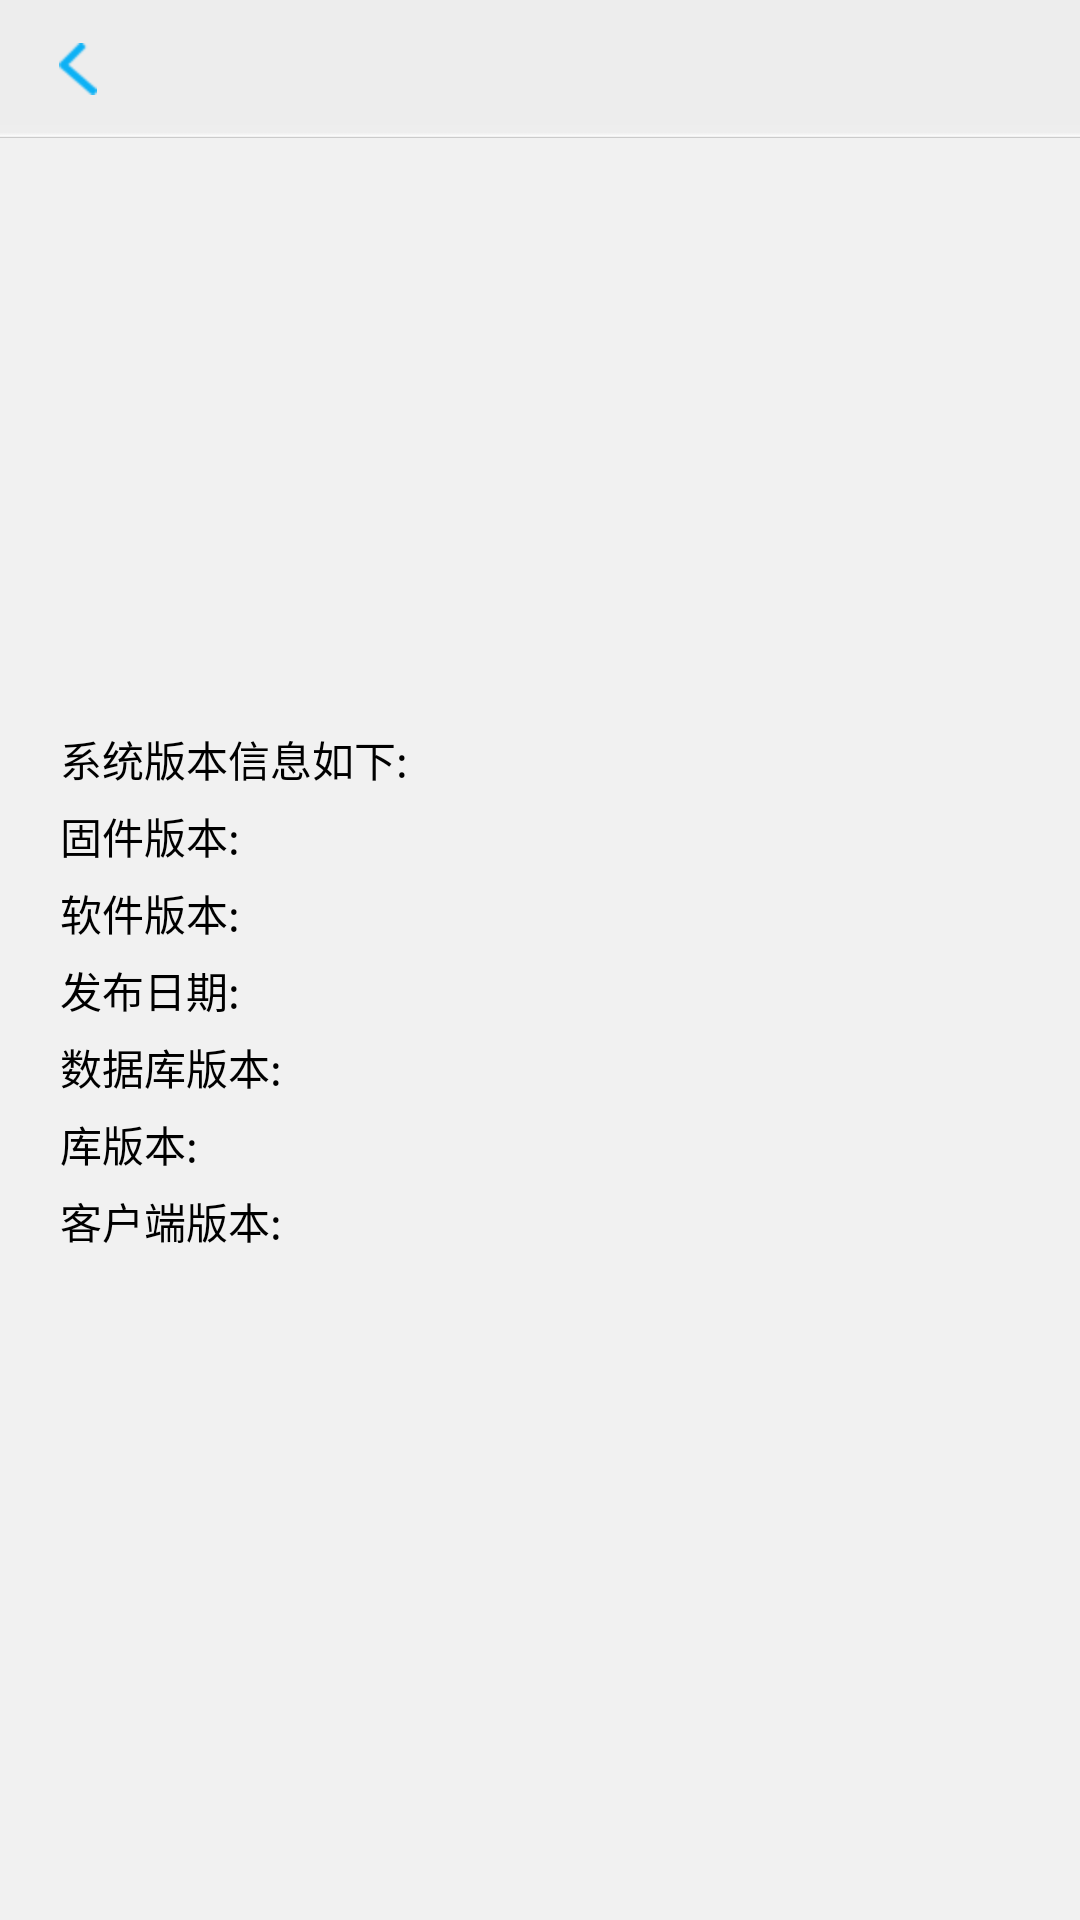

Icon bounding boxes for this 1080*1920 phone screenshot, format (x1, y1, x2, y2):
bnt back nor: (59, 43, 97, 95)
